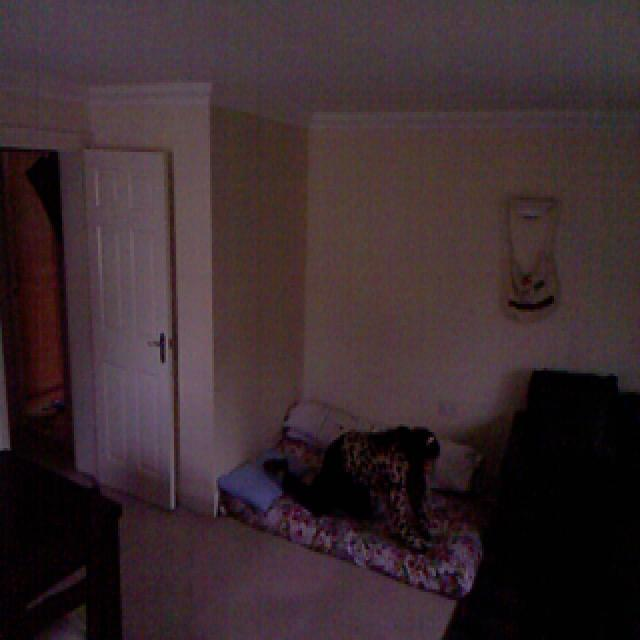Fall: (253, 389, 473, 584)
